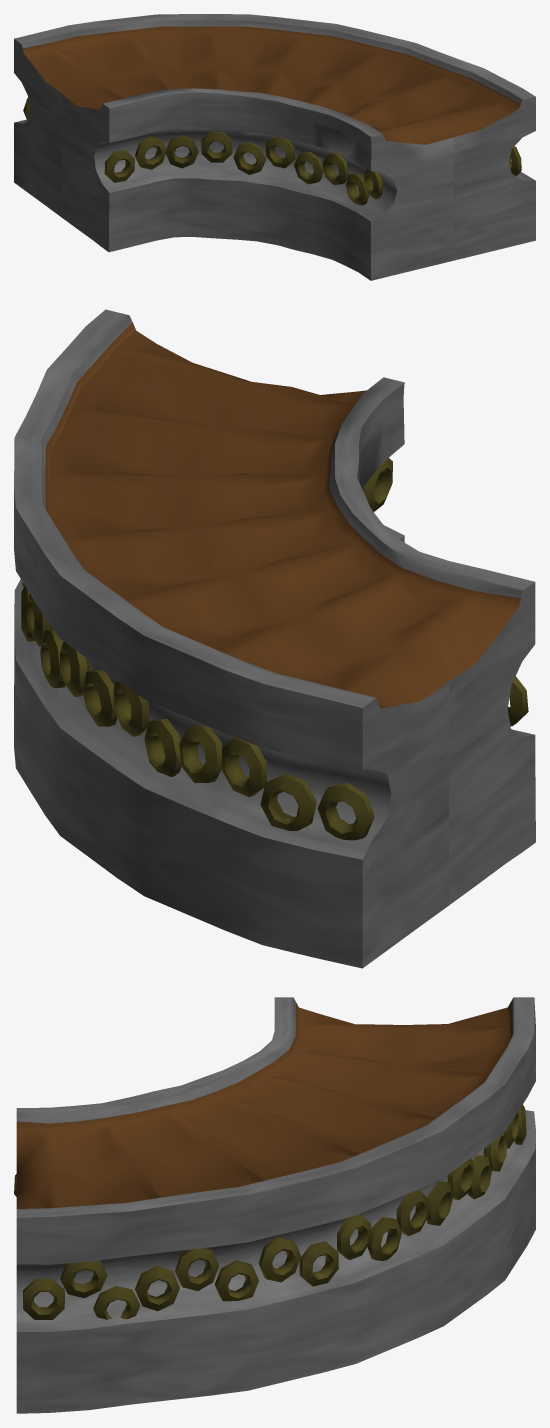
Rendered from FM-011-ConveyerBelt-Corner.fbx.
3 views of the same model, one above another, from view 1: azimuth 30°, elevation 25°; view 2: azimuth 150°, elevation 25°; view 3: azimuth 270°, elevation 25° (orthographic). The views are drawn at different scales.
Parts seen in each view (by area): view 1: FM-011-ConveyerBelt-Corner; view 2: FM-011-ConveyerBelt-Corner; view 3: FM-011-ConveyerBelt-Corner.
Part boxes in pixels (box(x1,y1,x2,y2)): FM-011-ConveyerBelt-Corner: box(14, 14, 535, 280); FM-011-ConveyerBelt-Corner: box(14, 309, 535, 968); FM-011-ConveyerBelt-Corner: box(14, 997, 535, 1413).
Bounding box in the file's own units: 242 × 241 × 100.
